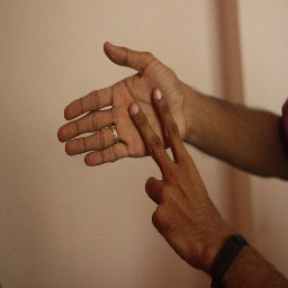N: (49, 36, 211, 212)
